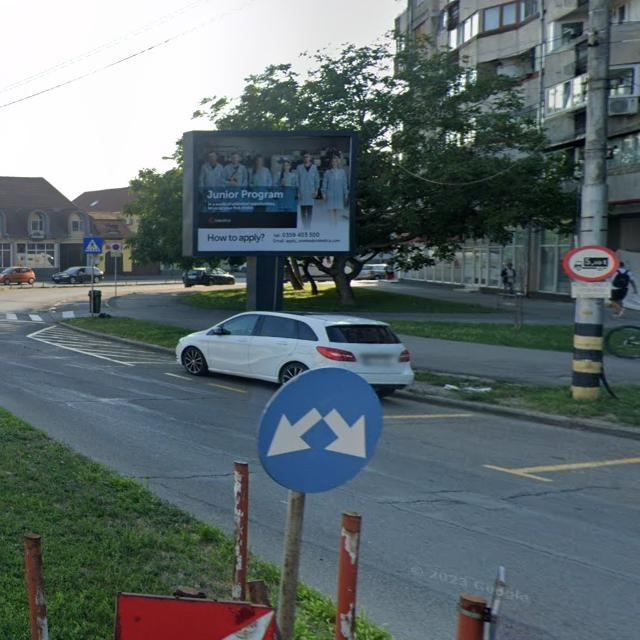info_crosswalk: (83, 237, 102, 254)
